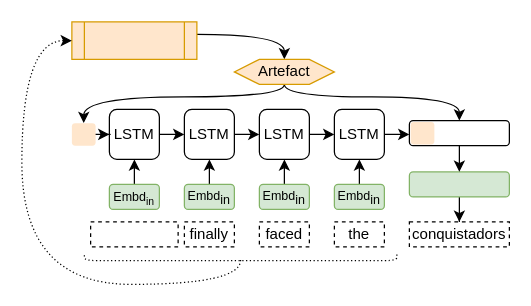
Some shapes in this 531 by 306 pixel diagram are drawn without their labels. Here are the shapes that lost their labels. From the top down, the centre of each, then its label:
At (134,40): "Pretrained LM".
At (458,184): "Embedding out".
At (133,234): "Moctezuma".
